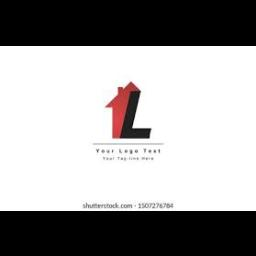l: (119, 88, 155, 140)
